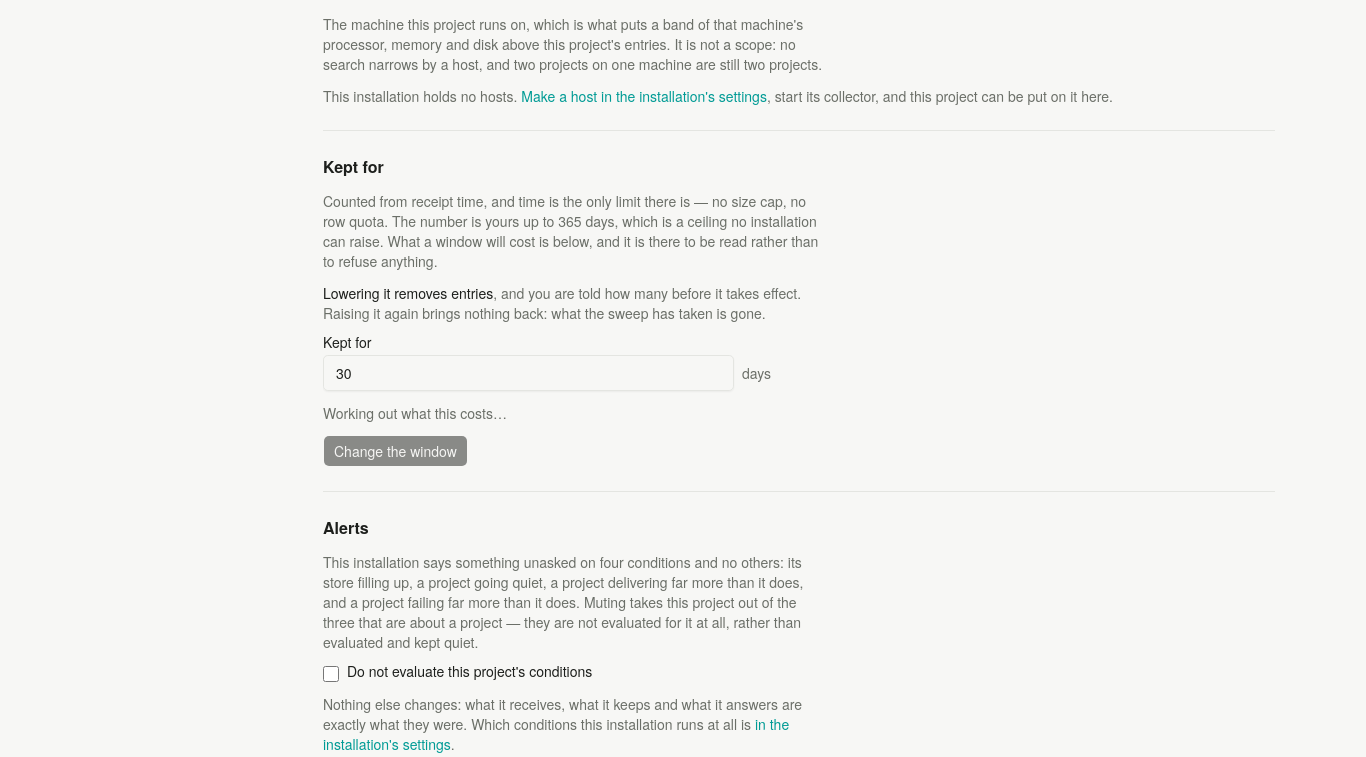
Scenario: the retention window › costs the window in the field rather than the one in force
(page scrolled)
Replace the text in the number field labelled "Kept for days" with "365". click: (528,373)
box: [323,355,734,391]
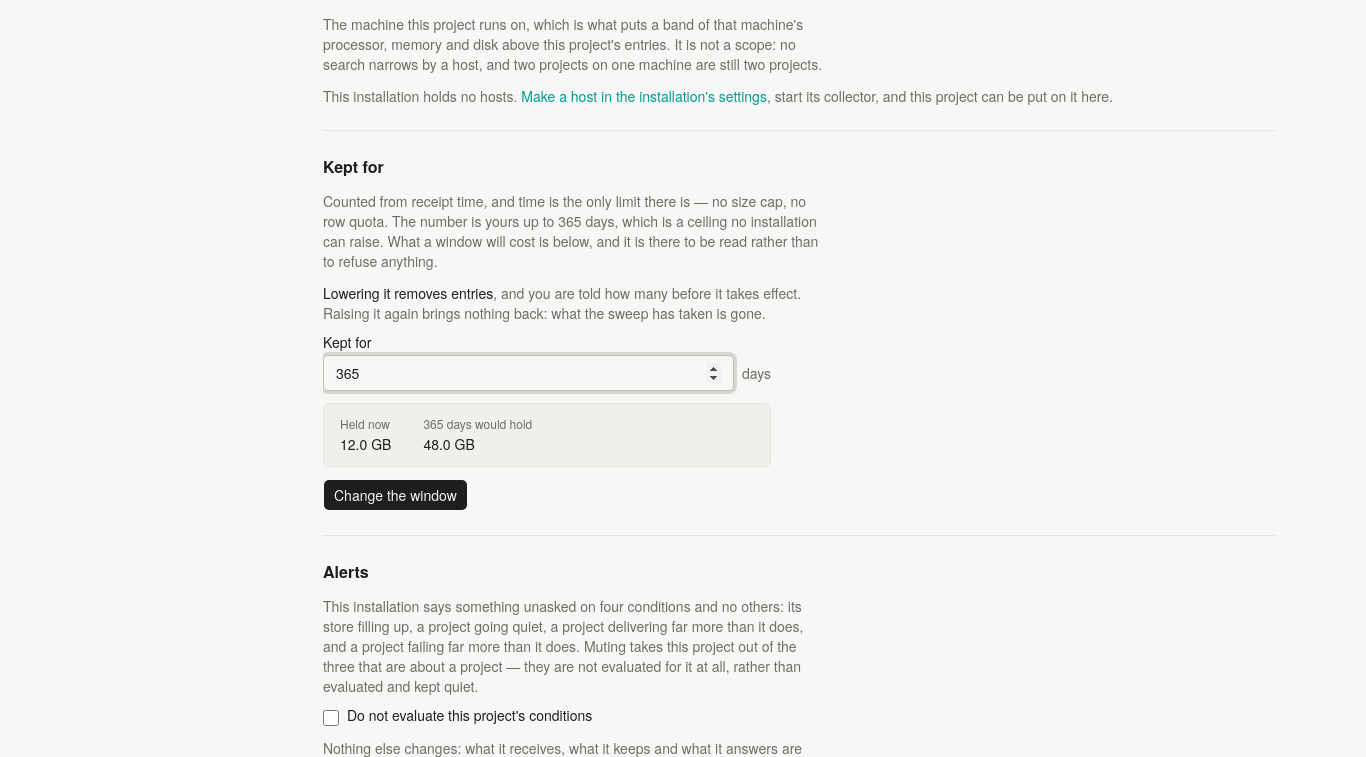
Check: the text "48.0 GB" is shown, box [423,434,475,454]
